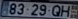2: (29, 3, 38, 15)
3: (16, 2, 24, 15)
8: (8, 2, 16, 14)
9: (38, 3, 47, 16)
H: (60, 4, 70, 17)
Q: (51, 4, 61, 16)
